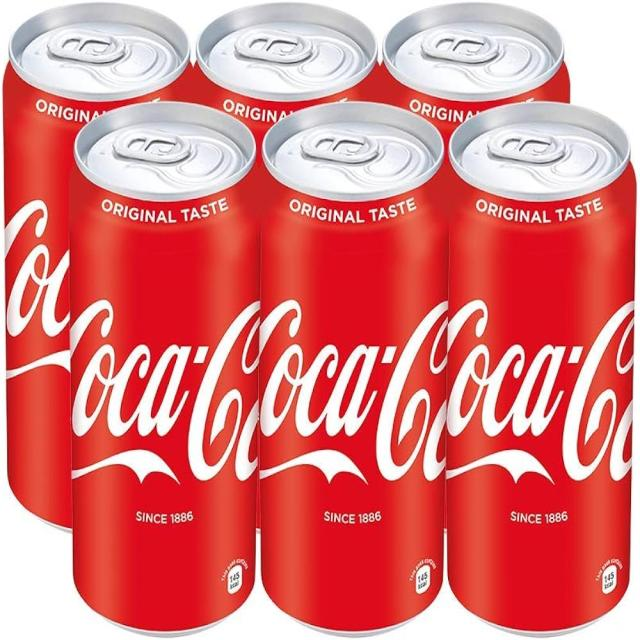cocacola: (64, 106, 258, 632), (0, 8, 192, 534), (262, 108, 448, 632), (450, 110, 637, 628), (384, 12, 581, 186), (194, 1, 380, 134)
